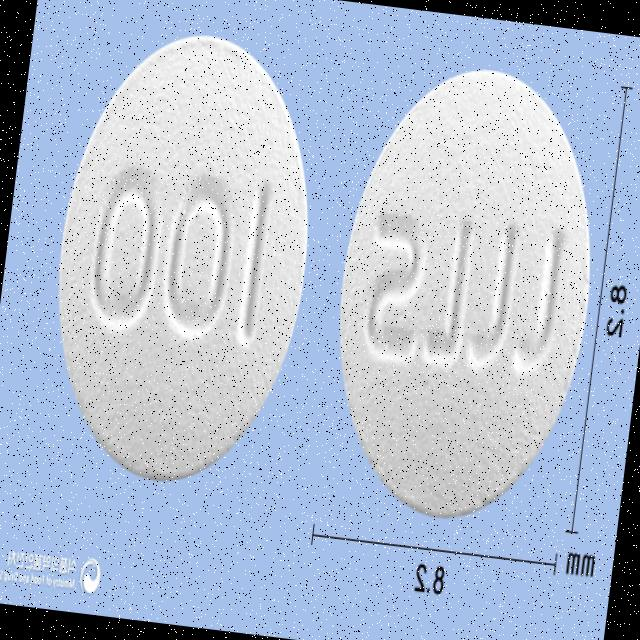Highloxin - 500mg: (313, 53, 616, 531), (31, 17, 332, 496)
